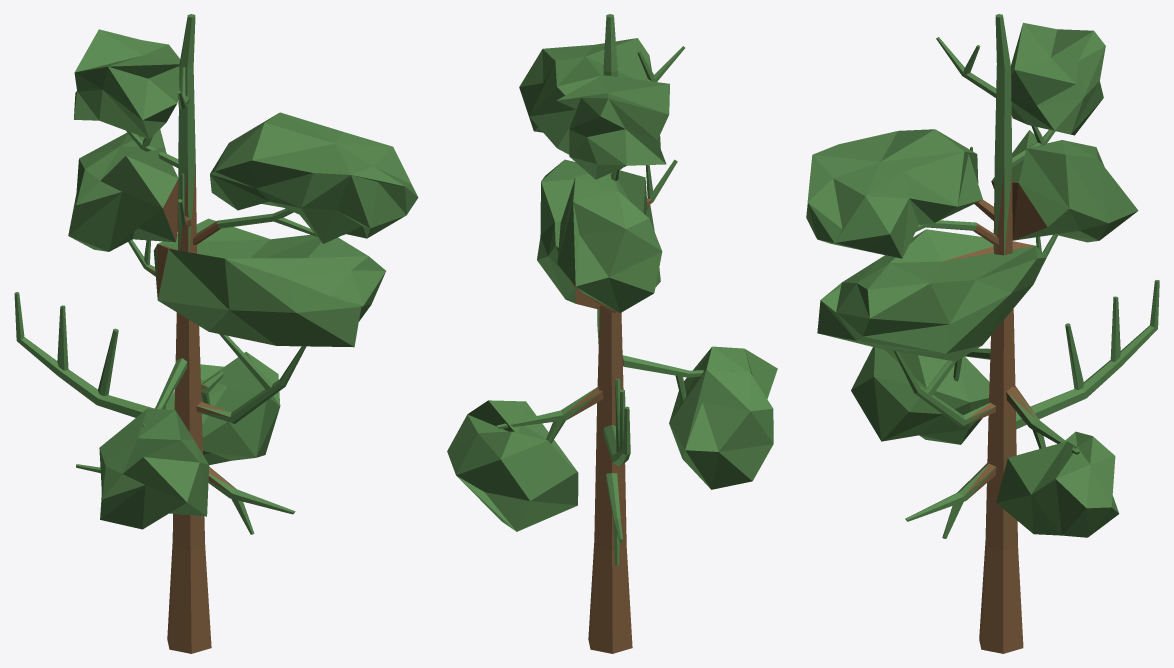
The model's file is tree3d-196.glb.
The picture shows the model from 3 angles, left to right: view 1: azimuth 30°, elevation 25°; view 2: azimuth 150°, elevation 25°; view 3: azimuth 270°, elevation 25°; orthographic projection.
Visible parts, largest first — view 1: tree3d-196; view 2: tree3d-196; view 3: tree3d-196.
Part boxes in pixels (x1,y1,x2,y2): tree3d-196: [14, 14, 418, 653]; tree3d-196: [447, 14, 777, 653]; tree3d-196: [806, 14, 1159, 653].
Bounding box in the file's own units: 0.4541 × 1 × 0.5098.
